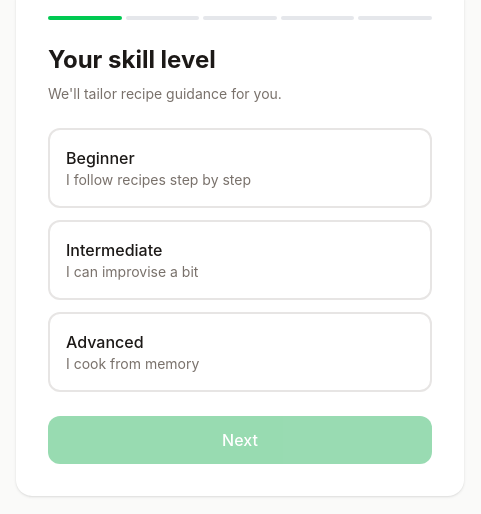
Test: Onboarding › Next is disabled on skill step until a level is selected
This screenshot has width=481, height=514.
Expected: the button "Next" is disabled, [48,416,432,464]
Click the text "Beginner": (100, 158) [66,148,135,168]
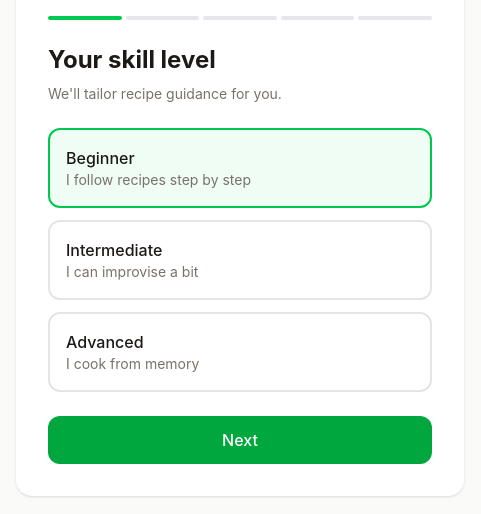
Expected: the button "Next" is enabled, [48,416,432,464]
